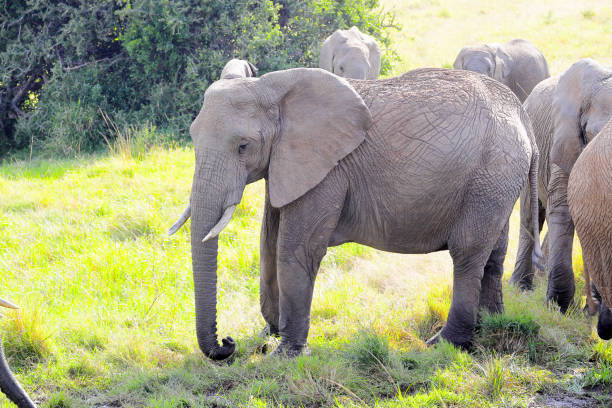africanelephant: (159, 58, 316, 332)
